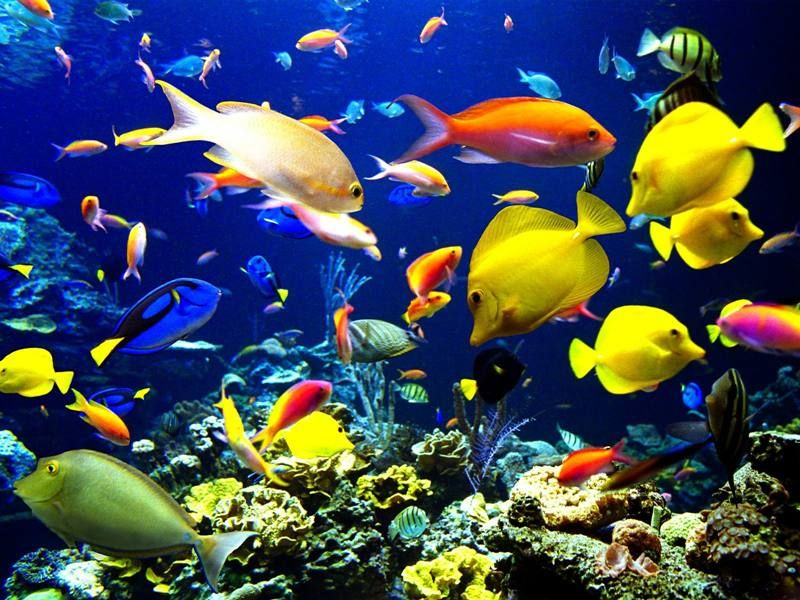fish: (137, 72, 376, 211), (15, 444, 247, 587), (453, 190, 613, 347), (392, 84, 627, 177), (625, 92, 781, 220), (556, 307, 709, 392), (107, 261, 224, 361), (249, 372, 338, 443), (548, 435, 635, 493), (326, 322, 423, 363), (44, 133, 110, 164)
